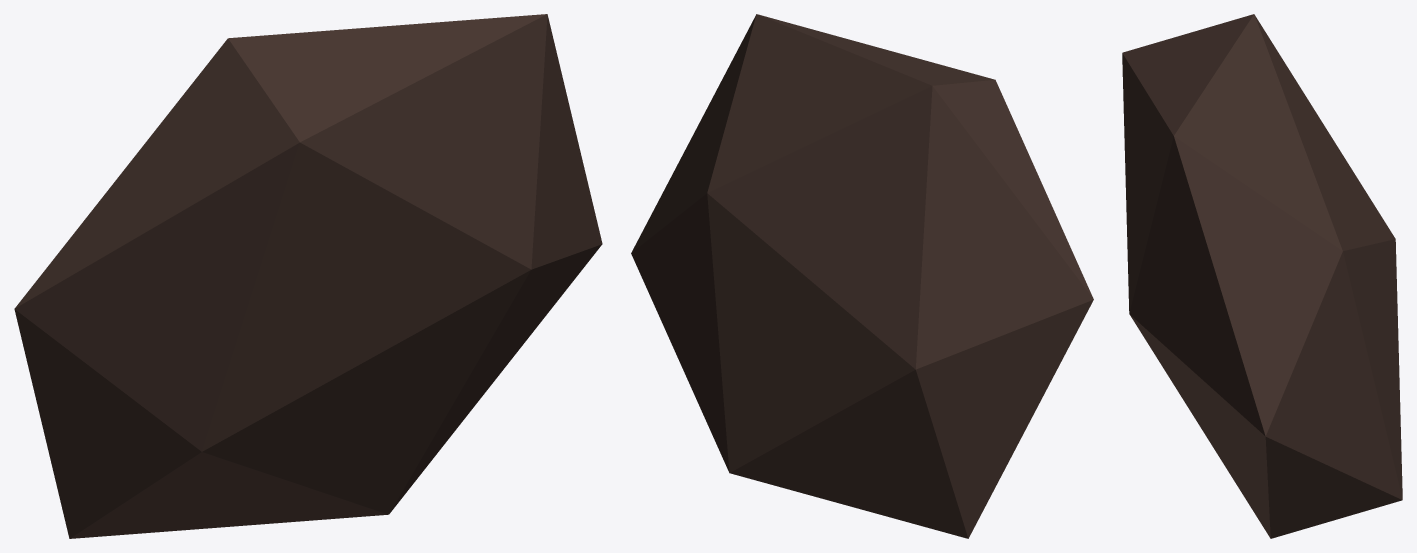
File: gore_02.glb
The picture shows the model from 3 angles, left to right: view 1: azimuth 30°, elevation 25°; view 2: azimuth 150°, elevation 25°; view 3: azimuth 270°, elevation 25°; orthographic projection. The views are drawn at different scales.
Parts seen in each view (by area): view 1: CHUNK; view 2: CHUNK; view 3: CHUNK.
Boxes of the visible parts, x1,y1,x2,y2 form: CHUNK: (14,14,602,538); CHUNK: (631,14,1093,538); CHUNK: (1122,14,1402,538).
Size of the model in its own units: 0.1111 by 0.0942 by 0.0529.
